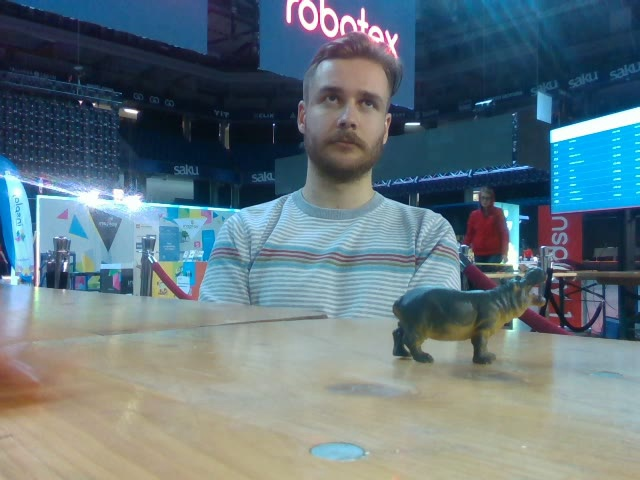toy: (392, 267, 547, 364)
